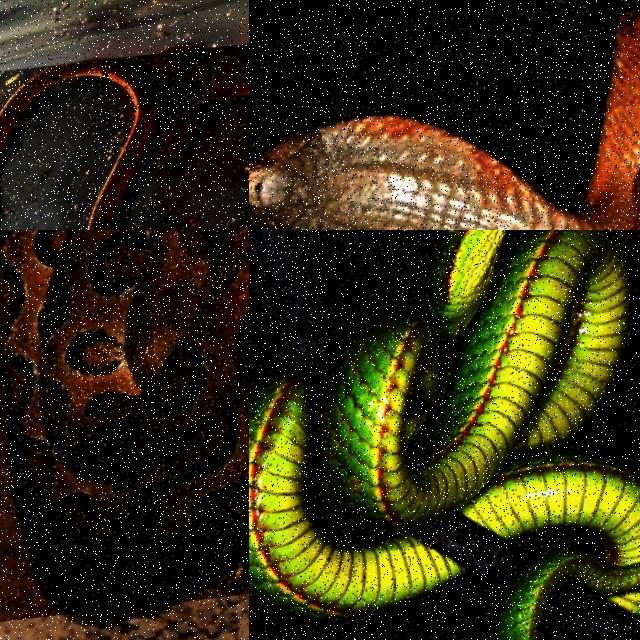Calliophis maculiceps: (0, 62, 157, 229)
Daboia siamensis: (0, 230, 248, 552)
Naja kaouthia: (249, 10, 639, 229)
Trimeresurus: (249, 230, 639, 639)
